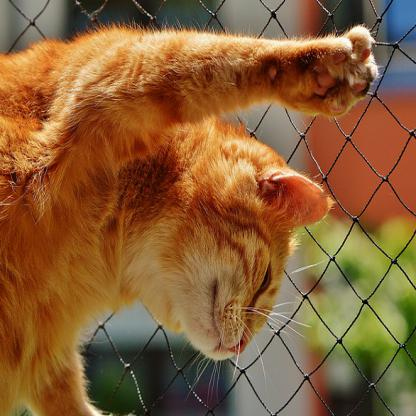cat: (0, 25, 380, 415)
